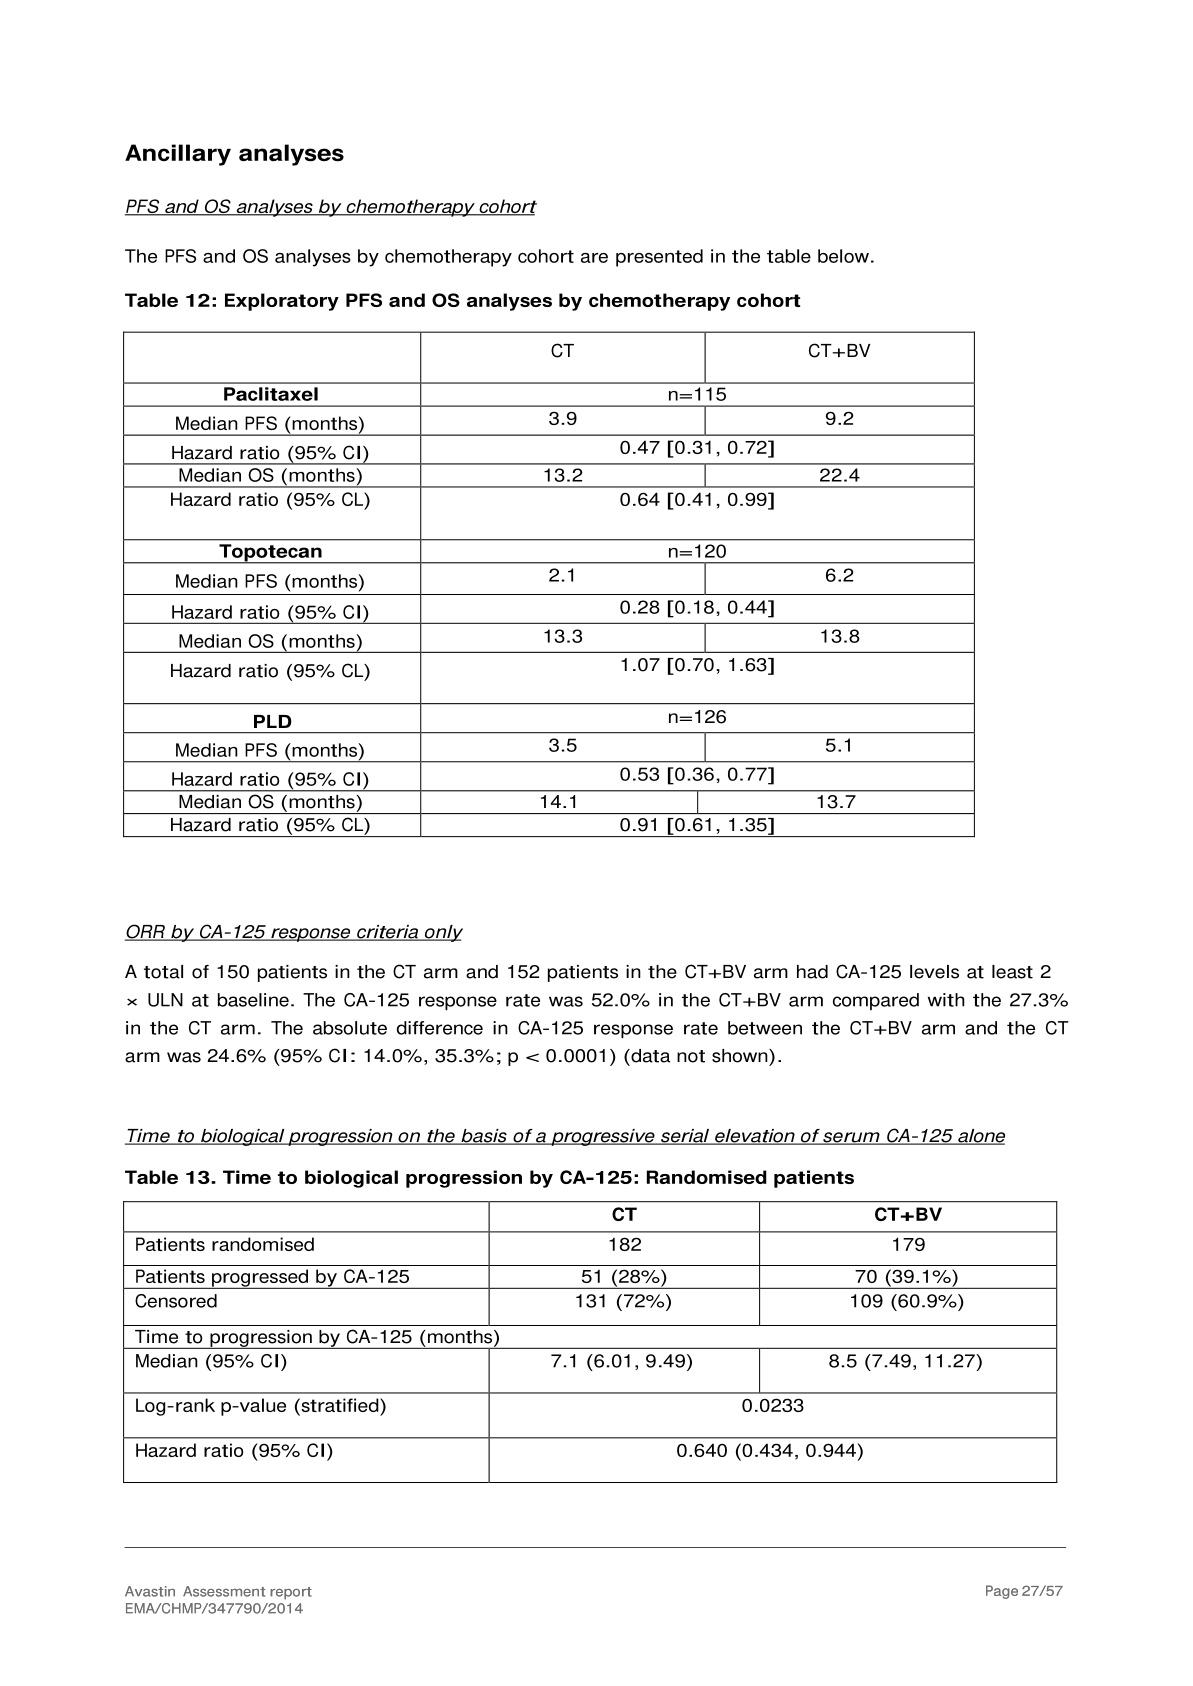merged_cells: (120, 330, 976, 838), (121, 1201, 1059, 1485)
